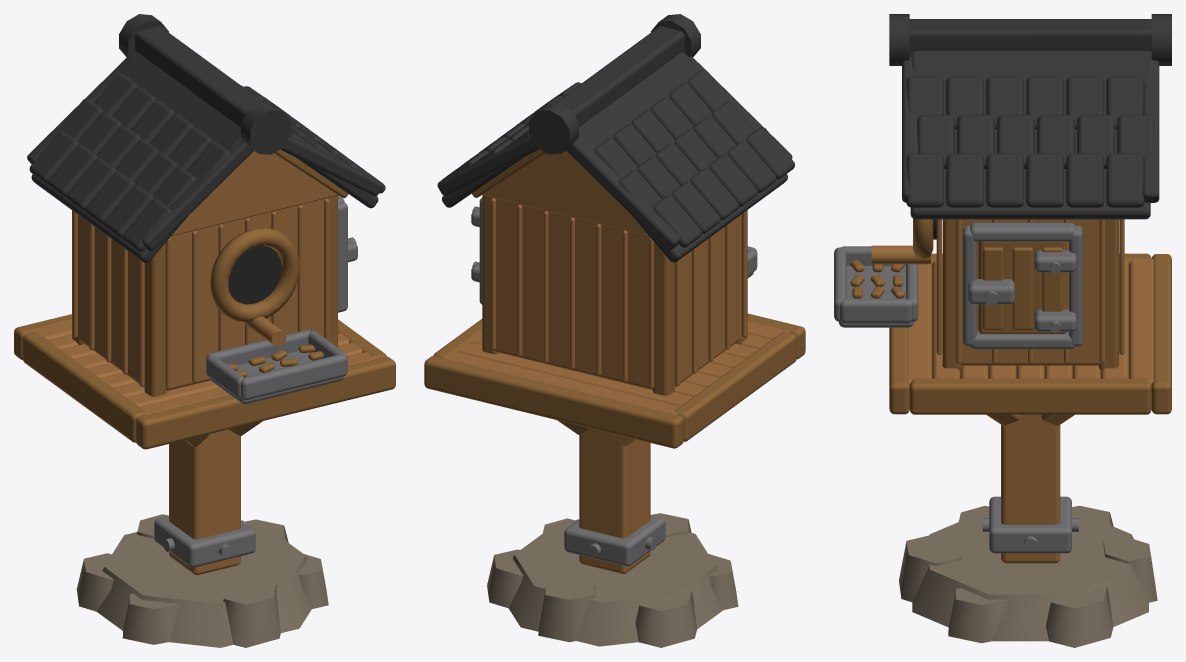
File: birdhouse.glb
3 views of the same model, side by side, from view 1: azimuth 30°, elevation 25°; view 2: azimuth 150°, elevation 25°; view 3: azimuth 270°, elevation 25° (orthographic). The views are drawn at different scales.
Visible parts, largest first — view 1: birdhouse-farm-wood, birdhouse-farm-roof-slate, birdhouse-farm-wood-dark, birdhouse-farm-stone, birdhouse-farm-metal, birdhouse-farm-window; view 2: birdhouse-farm-wood, birdhouse-farm-roof-slate, birdhouse-farm-stone, birdhouse-farm-wood-dark, birdhouse-farm-metal; view 3: birdhouse-farm-roof-slate, birdhouse-farm-wood-dark, birdhouse-farm-wood, birdhouse-farm-stone, birdhouse-farm-metal.
Part boxes in pixels (<box>): birdhouse-farm-wood: <box>30,151,378,575</box>; birdhouse-farm-roof-slate: <box>27,14,385,262</box>; birdhouse-farm-wood-dark: <box>14,149,395,449</box>; birdhouse-farm-stone: <box>76,514,328,647</box>; birdhouse-farm-metal: <box>154,195,357,567</box>; birdhouse-farm-window: <box>228,245,281,304</box>; birdhouse-farm-wood: <box>441,151,789,573</box>; birdhouse-farm-roof-slate: <box>437,14,794,262</box>; birdhouse-farm-stone: <box>487,513,738,647</box>; birdhouse-farm-wood-dark: <box>424,149,805,448</box>; birdhouse-farm-metal: <box>471,197,757,566</box>; birdhouse-farm-roof-slate: <box>889,14,1171,219</box>; birdhouse-farm-wood-dark: <box>850,218,1171,425</box>; birdhouse-farm-wood: <box>871,219,1153,563</box>; birdhouse-farm-stone: <box>899,505,1157,647</box>; birdhouse-farm-metal: <box>834,222,1082,553</box>.
Size of the model in its own units: 2.05 by 4.07 by 2.16.
